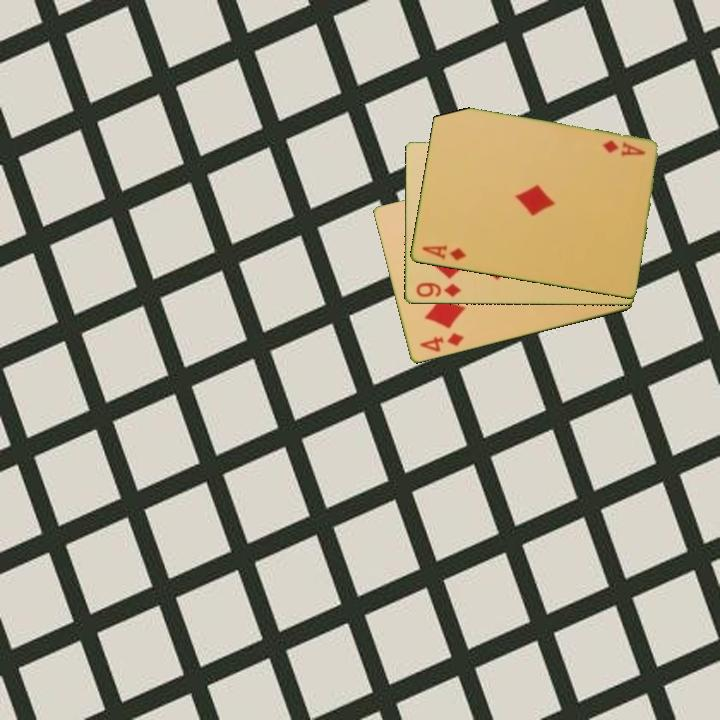4d: (415, 329, 466, 355)
9d: (412, 279, 464, 300)
Ad: (418, 242, 468, 264), (598, 137, 648, 159)
